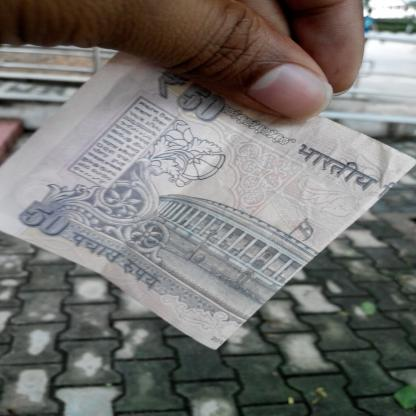Old50Back: (0, 49, 416, 351)
